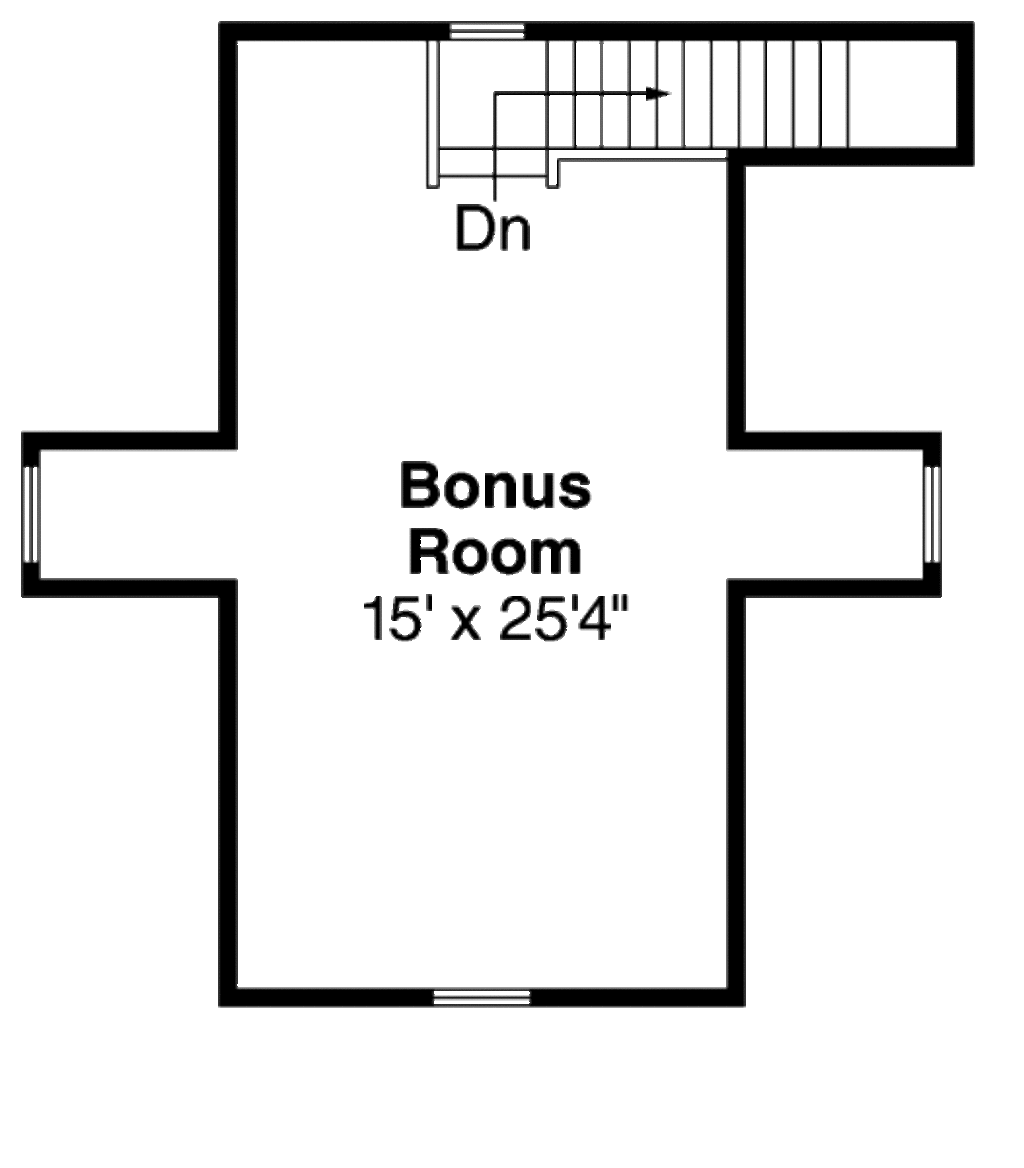stairs: (417, 38, 867, 192)
window: (917, 453, 944, 562), (19, 463, 41, 560), (450, 14, 524, 42), (439, 990, 537, 1005)
